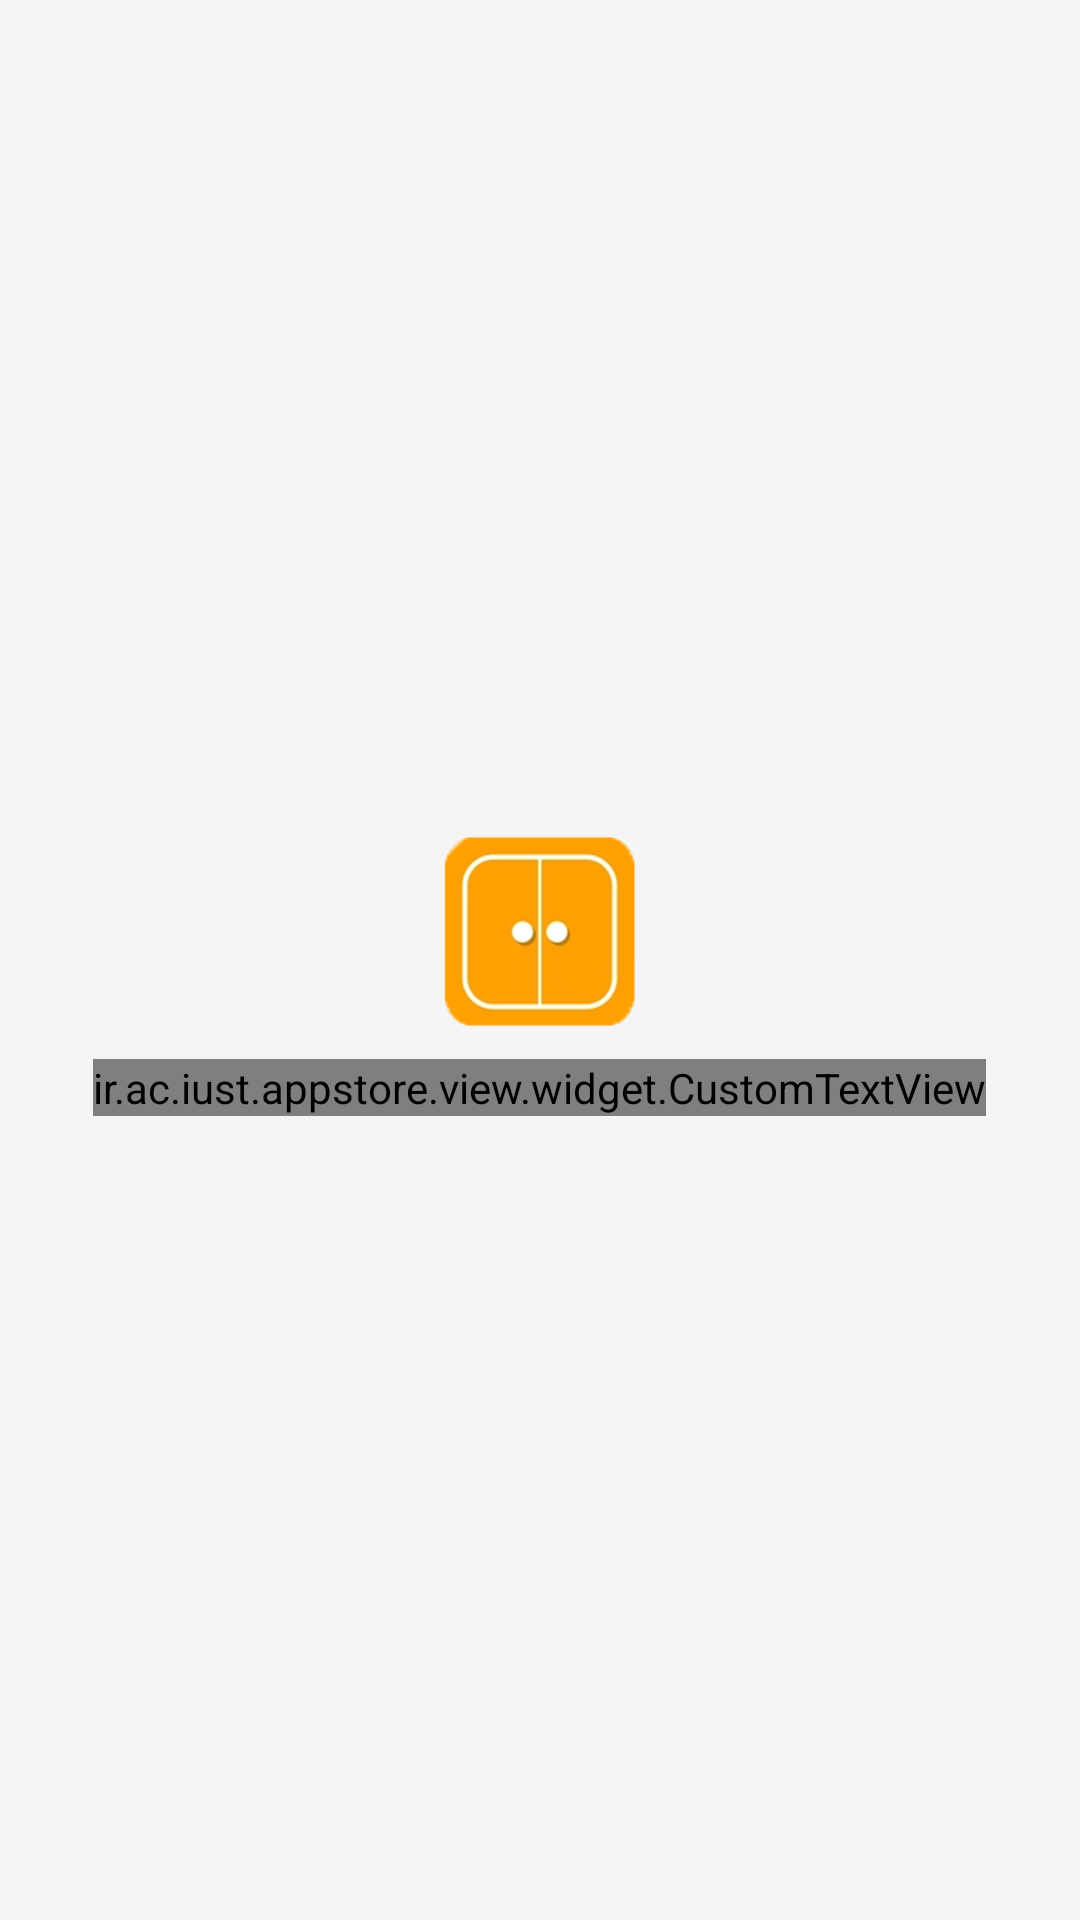

Point at icon controls on the screen. Image size 1080w x 1920h, points as point (x, y).
komod: point (539, 931)
